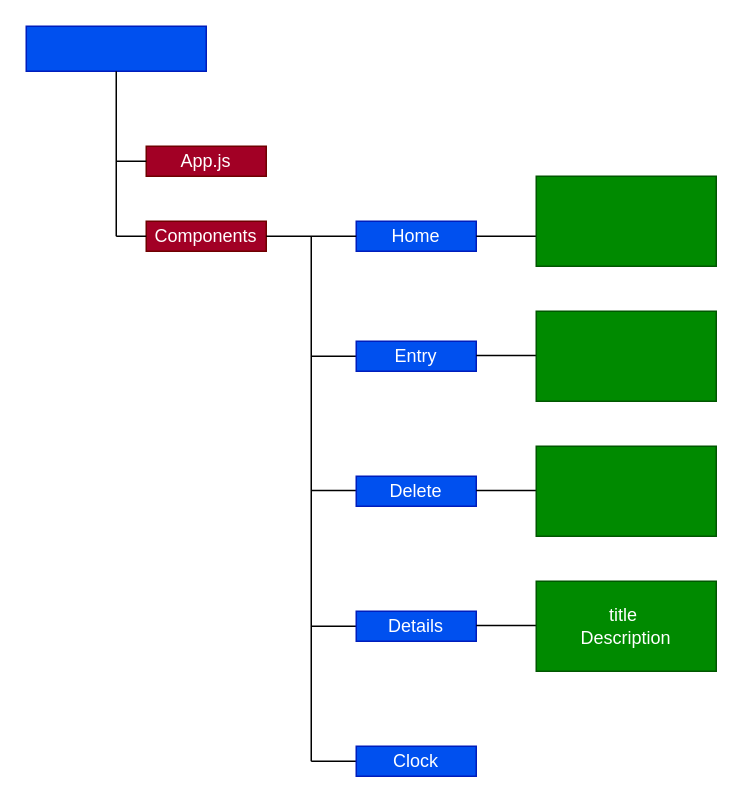
This 743x803 diagram has some shape labels left out. The shapes that lost their labels are listed below. From the top down, each one's centre as x and y in pixels, then its label:
At (x=115, y=48): "src".
At (x=625, y=220): "imported clock, add button, delete button, entry stack".
At (x=625, y=355): "imported clock, Title, Desciption".
At (x=625, y=490): "Display: Blocl delete buttons from the Home Layout".
